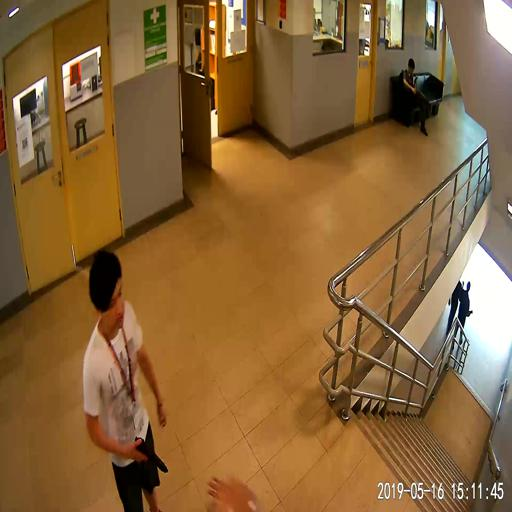pistol: (133, 435, 167, 472)
